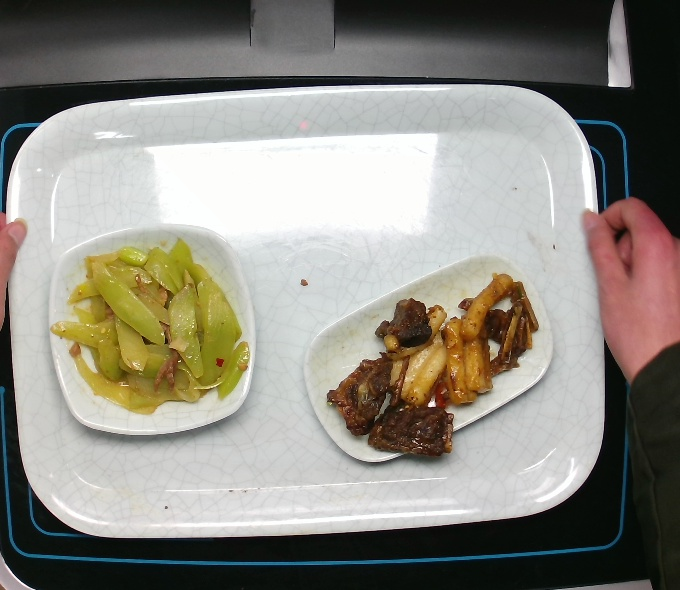wcq-NianGaoZaiPai: (318, 266, 539, 472)
wcq-WoSun: (42, 235, 253, 419)
